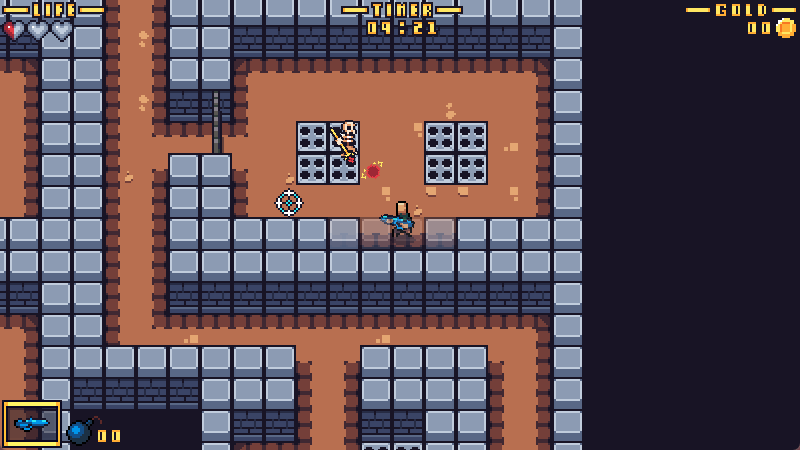aim: (276, 189, 303, 215)
bomb_counter_0: (66, 415, 122, 450)
enemy_skeleton: (333, 122, 362, 166)
enemy_skeleton_shoot: (366, 165, 381, 179)
gold_counter: (685, 1, 800, 39)
health-5: (1, 19, 76, 42)
player: (379, 201, 415, 239)
timer: (342, 1, 462, 35)
trap_off: (297, 121, 361, 186), (425, 121, 488, 185)
